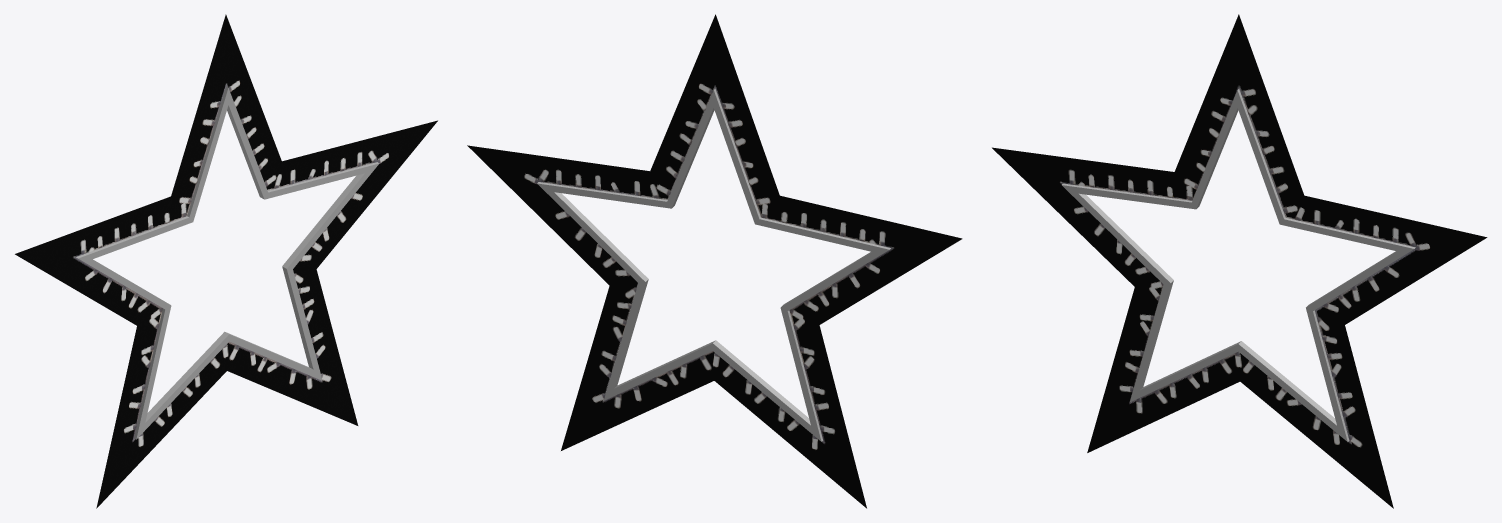
Rendered from star2.fbx.
3 renders of one model, left to right at view 1: azimuth 30°, elevation 25°; view 2: azimuth 150°, elevation 25°; view 3: azimuth 330°, elevation 25°, orthographic. The views are drawn at different scales.
Visible parts, largest first — view 1: Star001.010; view 2: Star001.010; view 3: Star001.010.
Boxes of the visible parts, x1,y1,x2,y2 form: Star001.010: (15,14,437,508); Star001.010: (467,14,962,508); Star001.010: (992,14,1487,508).
Size of the model in its own units: 144 by 138 by 16.18.
